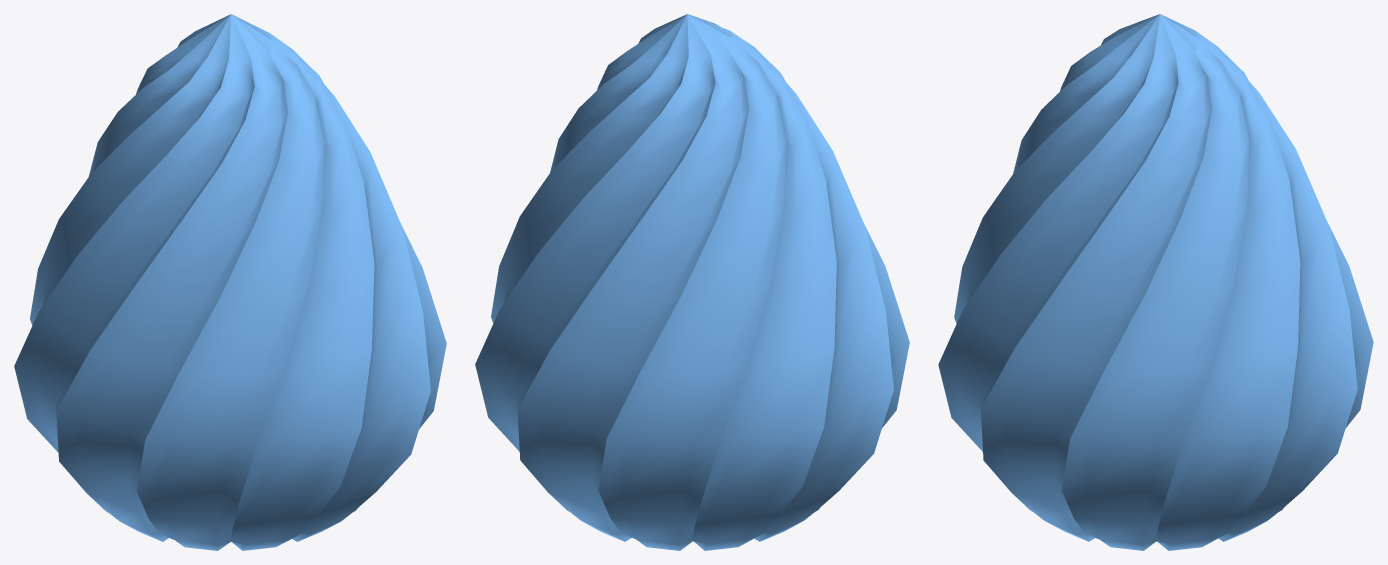
Rendered from Ice Cream Spiral A Blue.fbx.
The picture shows the model from 3 angles, left to right: view 1: azimuth 30°, elevation 25°; view 2: azimuth 150°, elevation 25°; view 3: azimuth 270°, elevation 25°; orthographic projection.
Parts seen in each view (by area): view 1: Ice Cream Spiral A Blue; view 2: Ice Cream Spiral A Blue; view 3: Ice Cream Spiral A Blue.
Boxes of the visible parts, box(x1,y1,x2,y2) form: Ice Cream Spiral A Blue: box(14, 14, 446, 550); Ice Cream Spiral A Blue: box(475, 14, 909, 550); Ice Cream Spiral A Blue: box(938, 14, 1373, 550).
Bounding box in the file's own units: 0.4046 × 0.503 × 0.4046.
